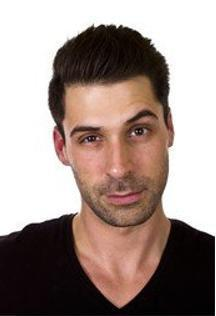Sober: (64, 88, 174, 218)
